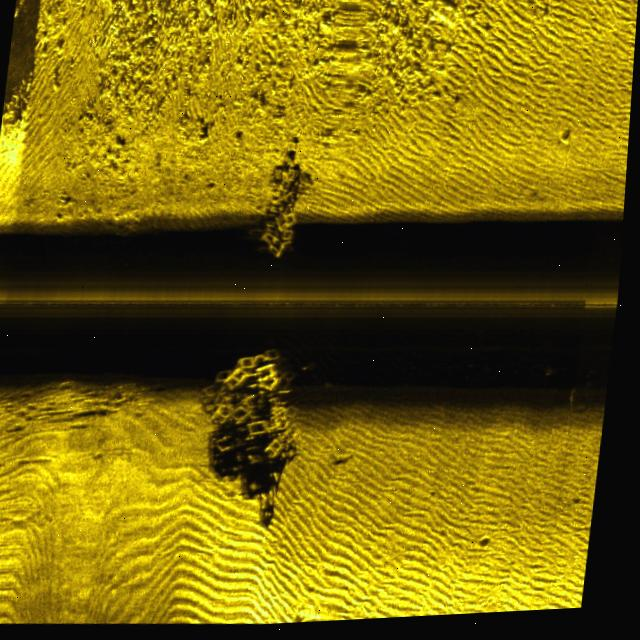artificial reef: (195, 338, 317, 481), (241, 155, 319, 271)
